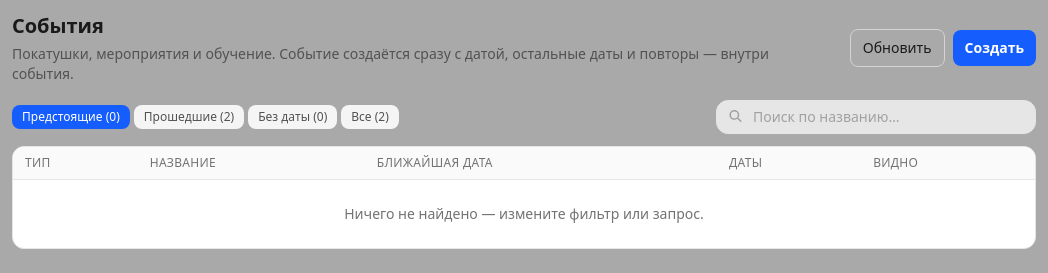
Test case: EventsPage › фильтр «Прошедшие» показывает недавние сверху
Click the button "Прошедшие (2)" at [189, 117], box [134,105,244,129]
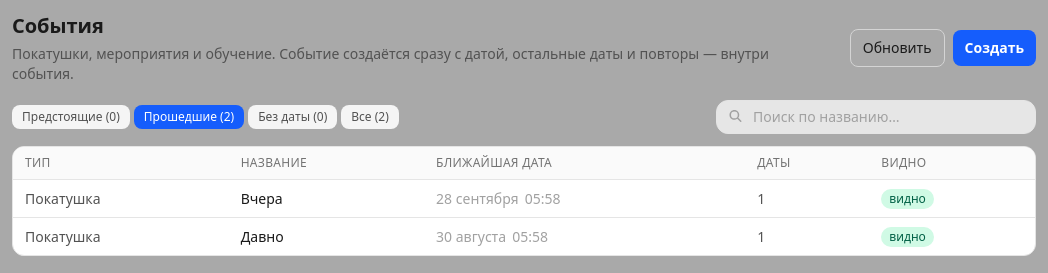
Expected: the text "Вчера" is shown, [229,180,424,218]
